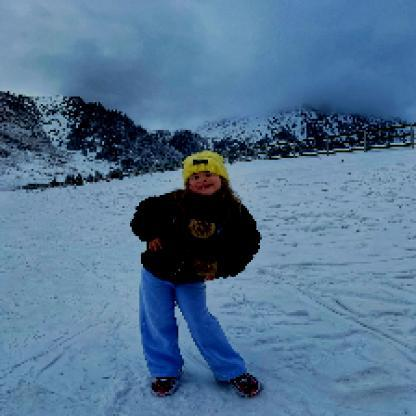child: (130, 153, 264, 398)
